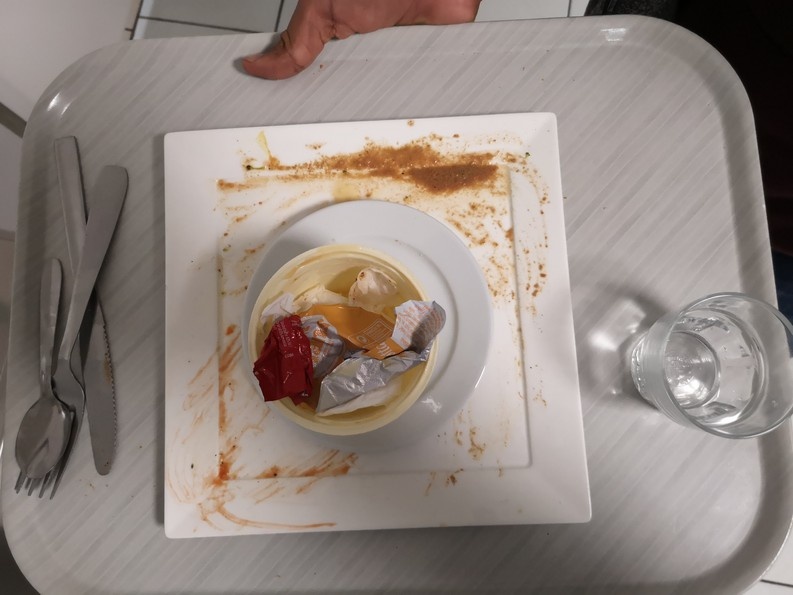cup: (606, 281, 793, 435)
cutlery: (9, 122, 128, 511)
trash: (248, 243, 448, 440)
